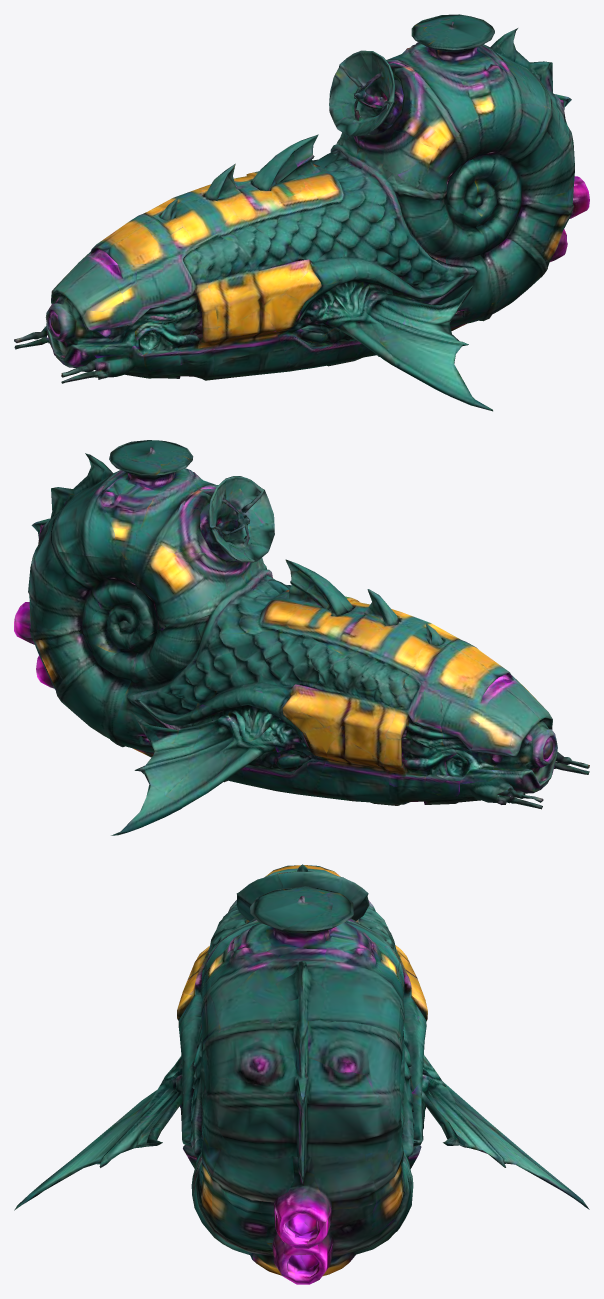
Rendered from Aquarii_ScienceVessel.glb.
3 renders of one model, top to bottom at view 1: azimuth 30°, elevation 25°; view 2: azimuth 150°, elevation 25°; view 3: azimuth 270°, elevation 25°, orthographic. The views are drawn at different scales.
Bounding box in the file's own units: 1.9 × 1.01 × 1.39.
Materials: 1 (1 with a texture image).
